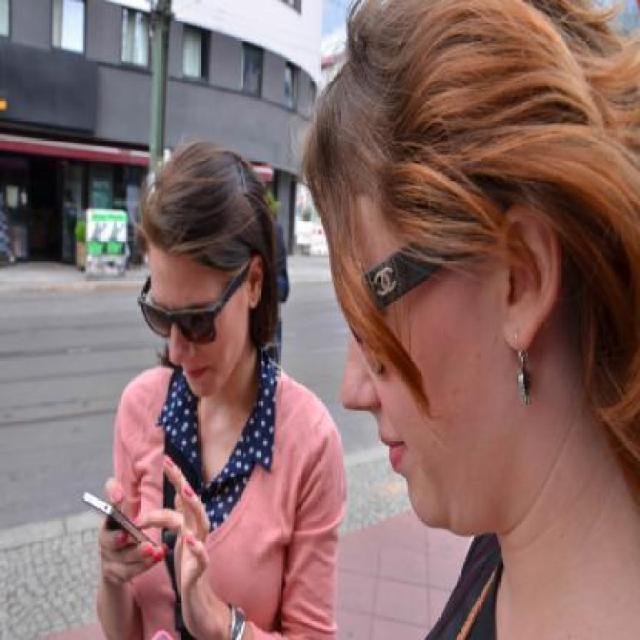face_nomask: (322, 250, 473, 518), (136, 289, 233, 393)
glasses: (130, 291, 222, 347)
hand_noglove: (141, 450, 230, 638), (91, 478, 167, 584)
head_nohelmet: (311, 21, 607, 244), (132, 173, 260, 270)
person: (90, 140, 341, 640)
